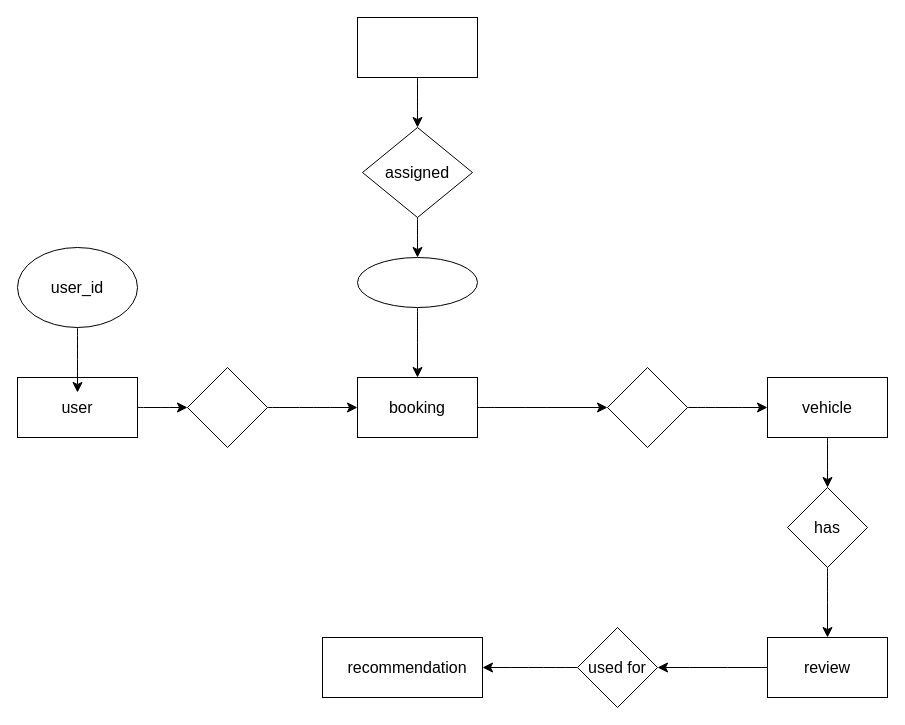
The diagram is 905 pixels wide and 725 high, and some of its shapes have lost their labels. The centre of each missing label's shape, as x and y in pixels:
"booking_id" goes at (417,282).
"driver" goes at (417,47).
"makes" goes at (227,407).
"rents" goes at (647,407).
